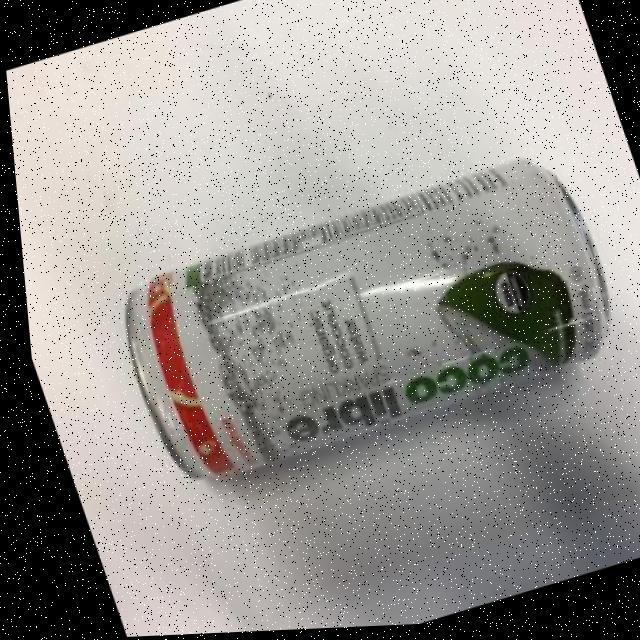metal: (84, 140, 640, 509)
